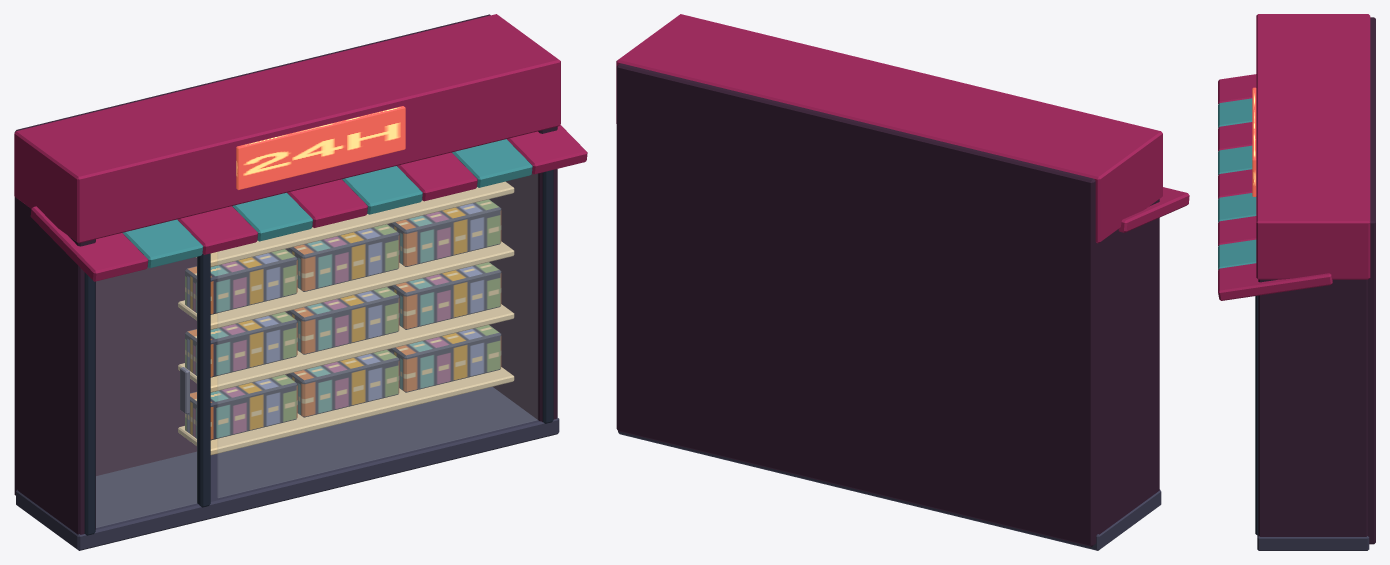
The model's file is minimart-facade.glb.
3 views of the same model, side by side, from view 1: azimuth 30°, elevation 25°; view 2: azimuth 150°, elevation 25°; view 3: azimuth 270°, elevation 25° (orthographic). The views are drawn at different scales.
Visible parts, largest first — view 1: Glazing.001, Header, Base, Glazing, Back_wall, Side_return, Side_return.001, Sign_face, Carton_row.005, Carton_row.007, Carton_row.004, Carton_row.002 (+21 smaller); view 2: Back_wall, Header, Side_return, Base, Awning_panel; view 3: Header, Side_return.001, Back_wall, Awning_panel.008, Base, Mullion.002, Awning_panel.006, Awning_panel.007, Awning_panel.005, Awning_panel, Awning_panel.001, Awning_panel.002 (+3 smaller).
Part boxes in pixels (x1,y1,x2,y2): Glazing.001: (217,174,537,497); Header: (14,14,560,243); Base: (16,387,559,550); Glazing: (96,257,197,527); Back_wall: (14,14,490,495); Side_return: (17,199,95,534); Side_return.001: (489,126,557,422); Sign_face: (236,106,405,189); Carton_row.005: (389,262,501,329); Carton_row.007: (287,224,399,291); Carton_row.004: (287,287,399,354); Carton_row.002: (389,325,501,392); Back_wall: (616,63,1096,546); Header: (616,14,1162,243); Side_return: (1097,199,1159,534); Base: (618,431,1161,550); Awning_panel: (1118,187,1189,232); Header: (1256,14,1370,279); Side_return.001: (1258,279,1367,536); Back_wall: (1368,17,1375,544); Awning_panel.008: (1218,263,1332,300); Base: (1257,535,1369,550); Mullion.002: (1255,295,1258,534); Awning_panel.006: (1218,216,1256,245); Awning_panel.007: (1218,239,1256,269); Awning_panel.005: (1218,193,1256,222); Awning_panel: (1218,74,1256,103); Awning_panel.001: (1218,98,1252,127); Awning_panel.002: (1218,122,1252,151).
Size of the model in its own units: 4.12 by 2.99 by 1.29.
Materials: 3 (2 with a texture image).
